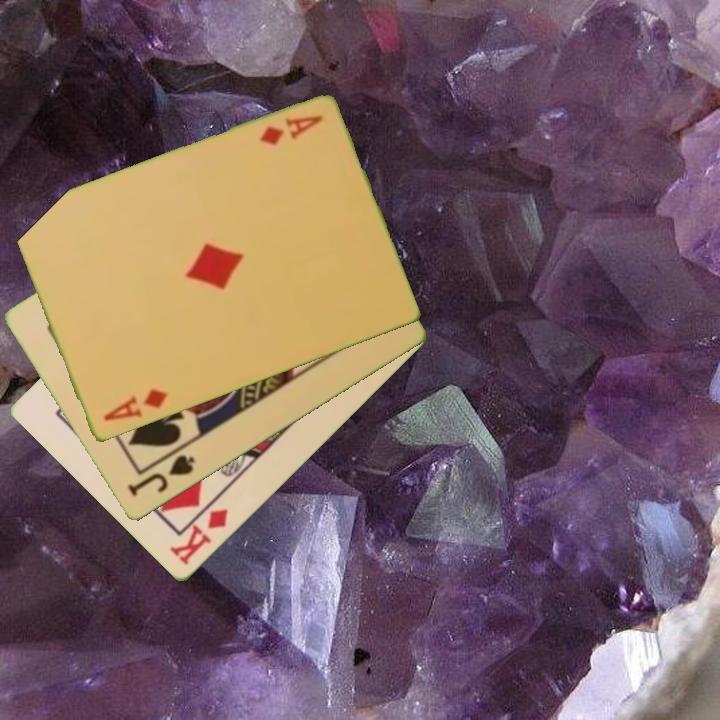Ad: (99, 386, 170, 425), (255, 112, 326, 149)
Js: (124, 451, 198, 500)
Kd: (166, 505, 232, 569)
